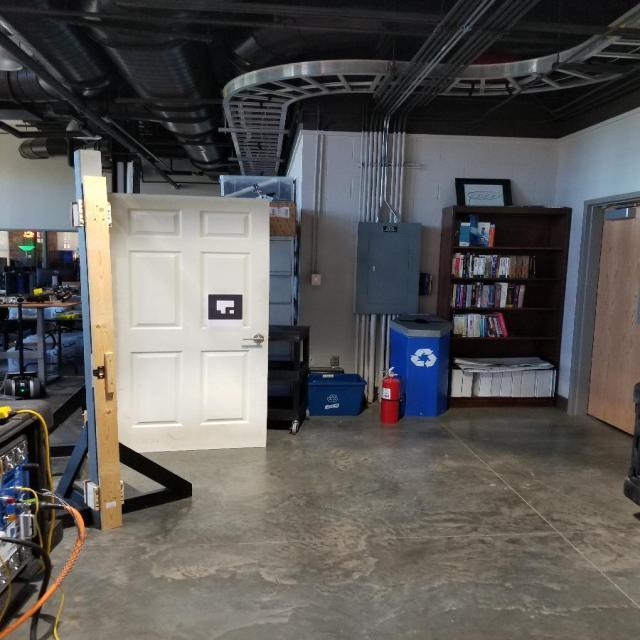door: (97, 190, 276, 454), (240, 334, 264, 346)
